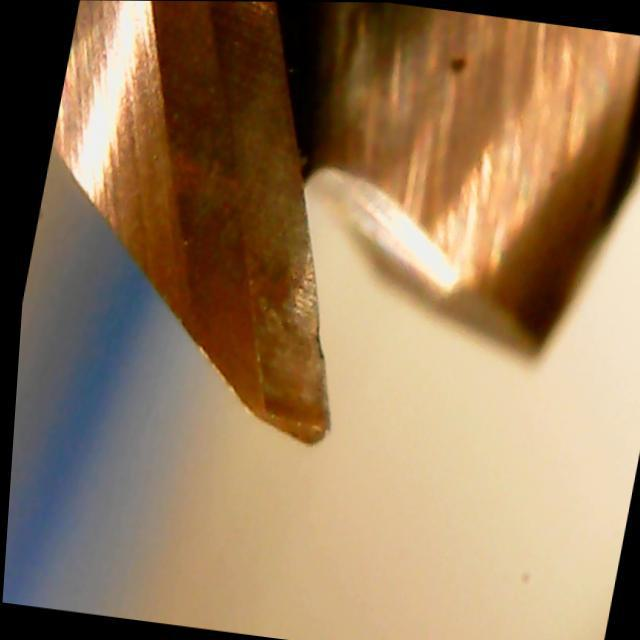Tool-wear-class-1: (203, 265, 375, 457)
